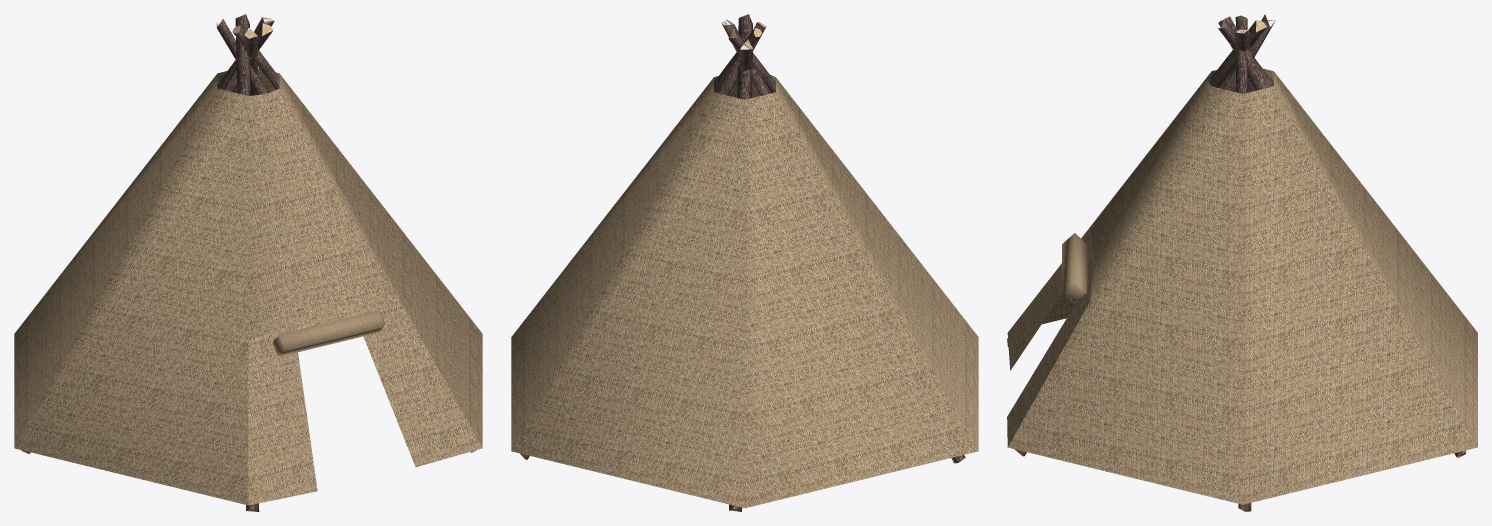
File: tepee_low_poly.FBX
3 renders of one model, left to right at view 1: azimuth 30°, elevation 25°; view 2: azimuth 150°, elevation 25°; view 3: azimuth 270°, elevation 25°, orthographic.
Parts seen in each view (by area): view 1: Cone001, Cylinder050, Cylinder044, Cylinder045, Cylinder046; view 2: Cone001, Cylinder048, Cylinder049, Cylinder044, Cylinder047; view 3: Cone001, Cylinder050, Cylinder044, Cylinder046, Cylinder047, Cylinder045.
Part boxes in pixels (left/top/right/bottom): Cone001: left=14, top=68, right=482, bottom=505; Cylinder050: left=272, top=310, right=385, bottom=356; Cylinder044: left=235, top=14, right=259, bottom=511; Cylinder045: left=216, top=19, right=476, bottom=452; Cylinder046: left=232, top=25, right=279, bottom=89; Cone001: left=511, top=75, right=978, bottom=508; Cylinder048: left=729, top=14, right=752, bottom=511; Cylinder049: left=721, top=19, right=965, bottom=463; Cylinder044: left=728, top=28, right=775, bottom=93; Cylinder047: left=520, top=22, right=766, bottom=459; Cone001: left=1007, top=68, right=1477, bottom=504; Cylinder050: left=1062, top=233, right=1087, bottom=303; Cylinder044: left=1007, top=20, right=1266, bottom=347; Cylinder046: left=1235, top=15, right=1251, bottom=511; Cylinder047: left=1218, top=16, right=1466, bottom=457; Cylinder045: left=1014, top=14, right=1275, bottom=456.
Size of the model in its own units: 33.8 by 29.31 by 26.69.
